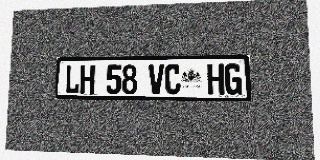5: (106, 65, 122, 94)
8: (122, 64, 137, 94)
C: (165, 64, 181, 94)
G: (224, 63, 242, 95)
H: (207, 64, 224, 95), (80, 65, 95, 94)
L: (65, 65, 80, 94)
V: (148, 64, 164, 94)
